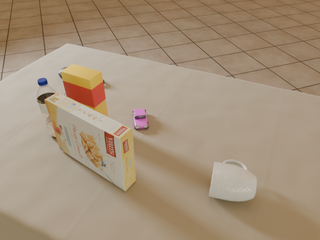bottle: (36, 78, 57, 137)
box: (44, 93, 136, 191), (60, 64, 108, 117)
cup: (209, 160, 257, 201)
toy_car: (133, 109, 148, 129)
